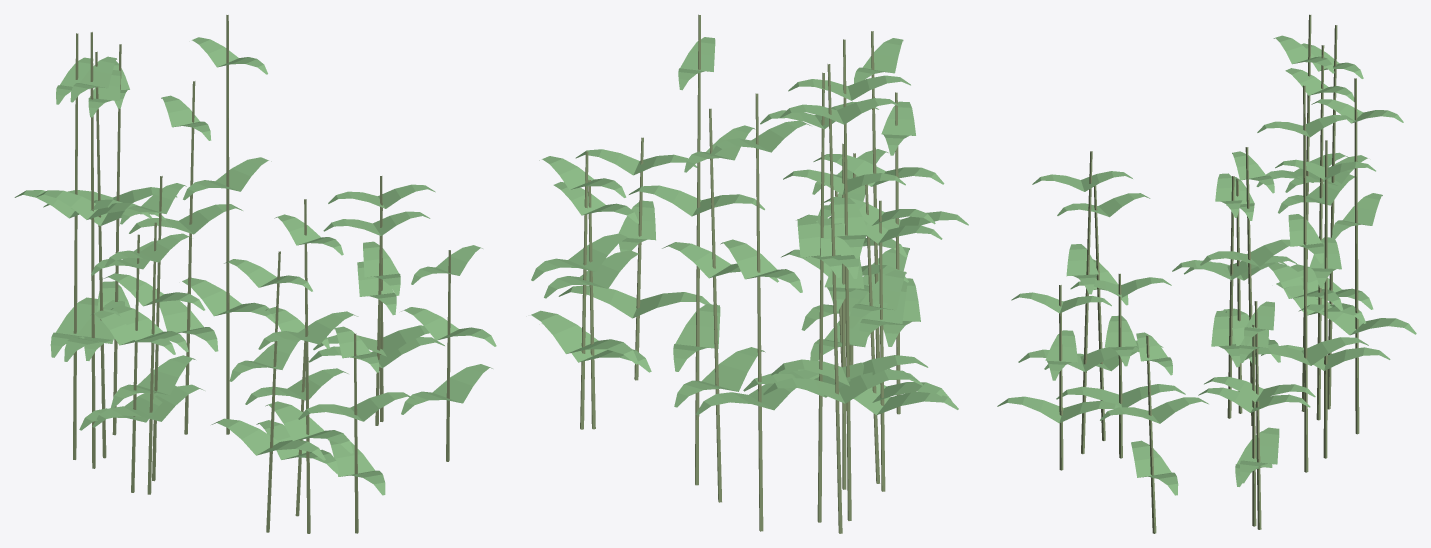
File: temperate-forest-ecology-nettle-patch-ec1d9121__3851.glb
The picture shows the model from 3 angles, left to right: view 1: azimuth 30°, elevation 25°; view 2: azimuth 150°, elevation 25°; view 3: azimuth 270°, elevation 25°; orthographic projection. The views are drawn at different scales.
Parts seen in each view (by area): view 1: nettle-patch; view 2: nettle-patch; view 3: nettle-patch.
Part boxes in pixels (box(x1,y1,x2,y2)): nettle-patch: box(14, 15, 496, 533); nettle-patch: box(531, 14, 968, 533); nettle-patch: box(997, 14, 1416, 533).
Size of the model in its own units: 1.3 by 1.39 by 1.33.
